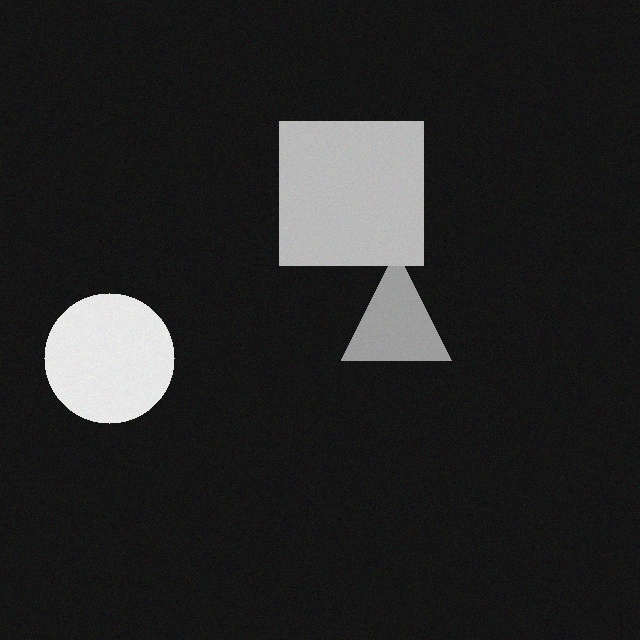circle: (31, 285, 161, 415)
square: (266, 113, 410, 257)
triangle: (328, 242, 438, 352)
